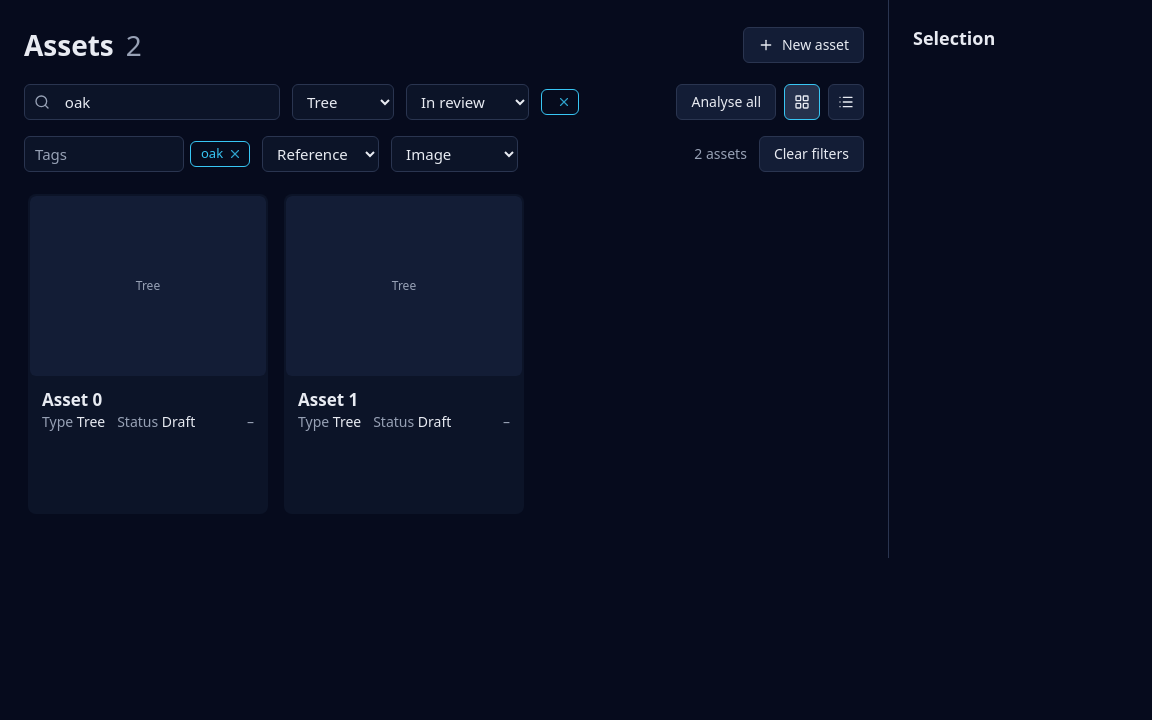
Test: Analyse all carries every gallery filter into the asset filter target
The image size is (1152, 720).
Check: the text "Asset 0" is shown, box [42,388,102,411]
What coordinates should you click on to do the following:
click the button "Analyse all"
I would click on:
 (726, 102)
Its box is [676,84,776,120].
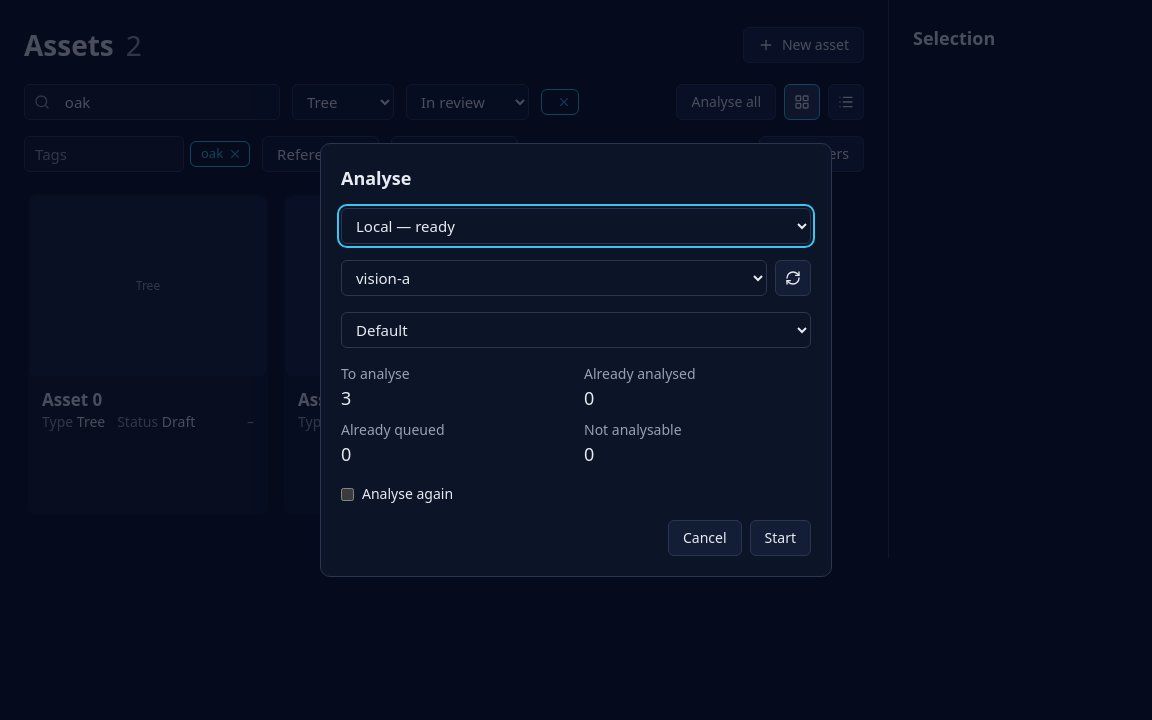
Check: the dialog "Analyse" is shown, box [320,143,832,577]
